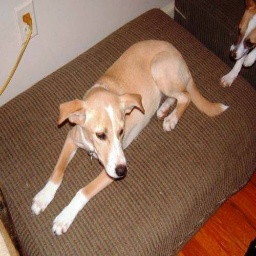dog: (31, 36, 233, 236)
